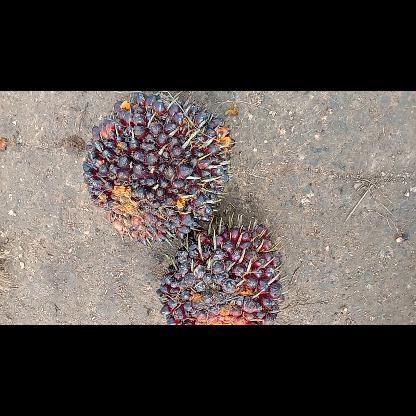Kurang masak: (78, 91, 235, 245), (154, 218, 286, 324)
